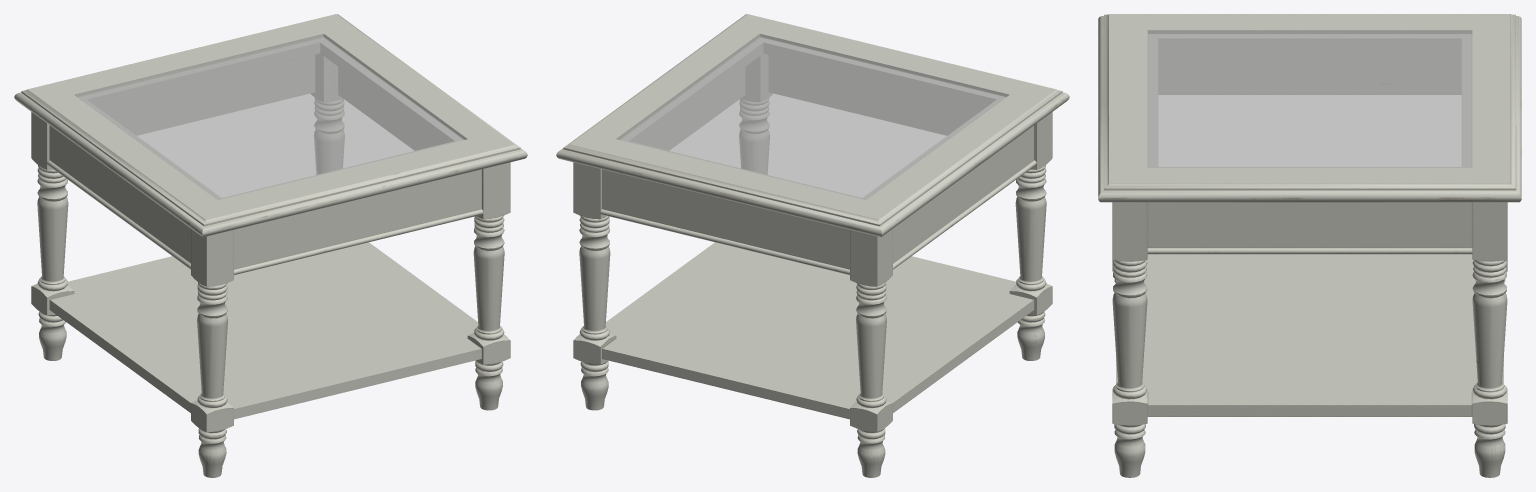
Rendered from example138.gltf.
3 renders of one model, left to right at view 1: azimuth 30°, elevation 25°; view 2: azimuth 150°, elevation 25°; view 3: azimuth 270°, elevation 25°, orthographic. The views are drawn at different scales.
Size of the model in its own units: 59.99 by 46.7 by 59.99.
Materials: 2 (1 with a texture image).
